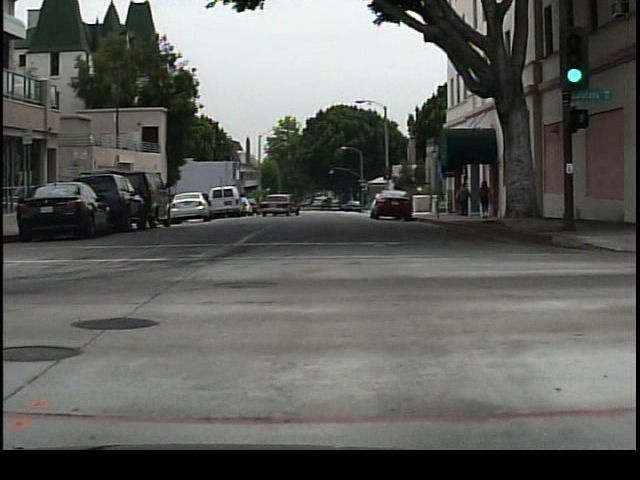person: (477, 174, 496, 220), (454, 180, 476, 219)
